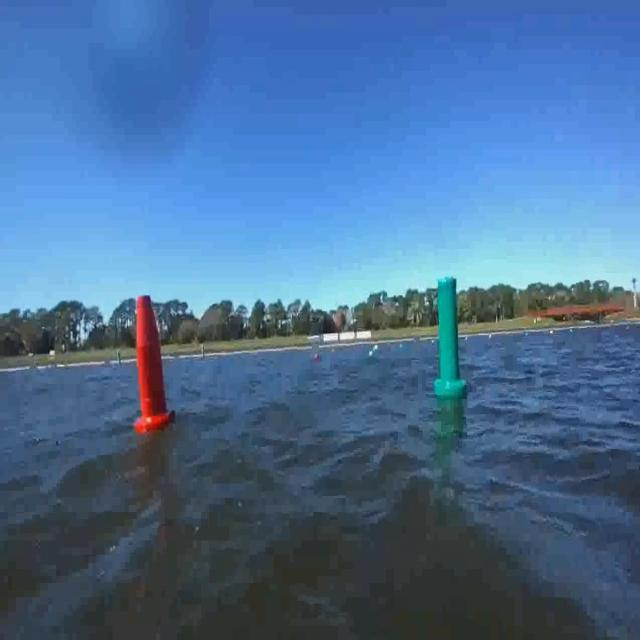green-column-buoy: (431, 272, 465, 400)
red-column-buoy: (135, 293, 171, 431)
